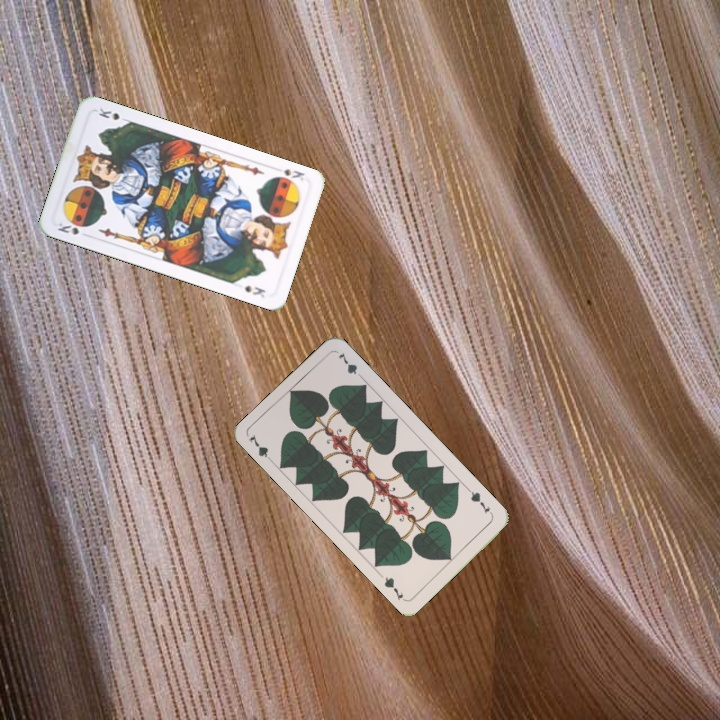G7: (244, 430, 277, 466), (464, 485, 492, 516)
SK: (53, 218, 92, 240), (280, 164, 307, 183)
